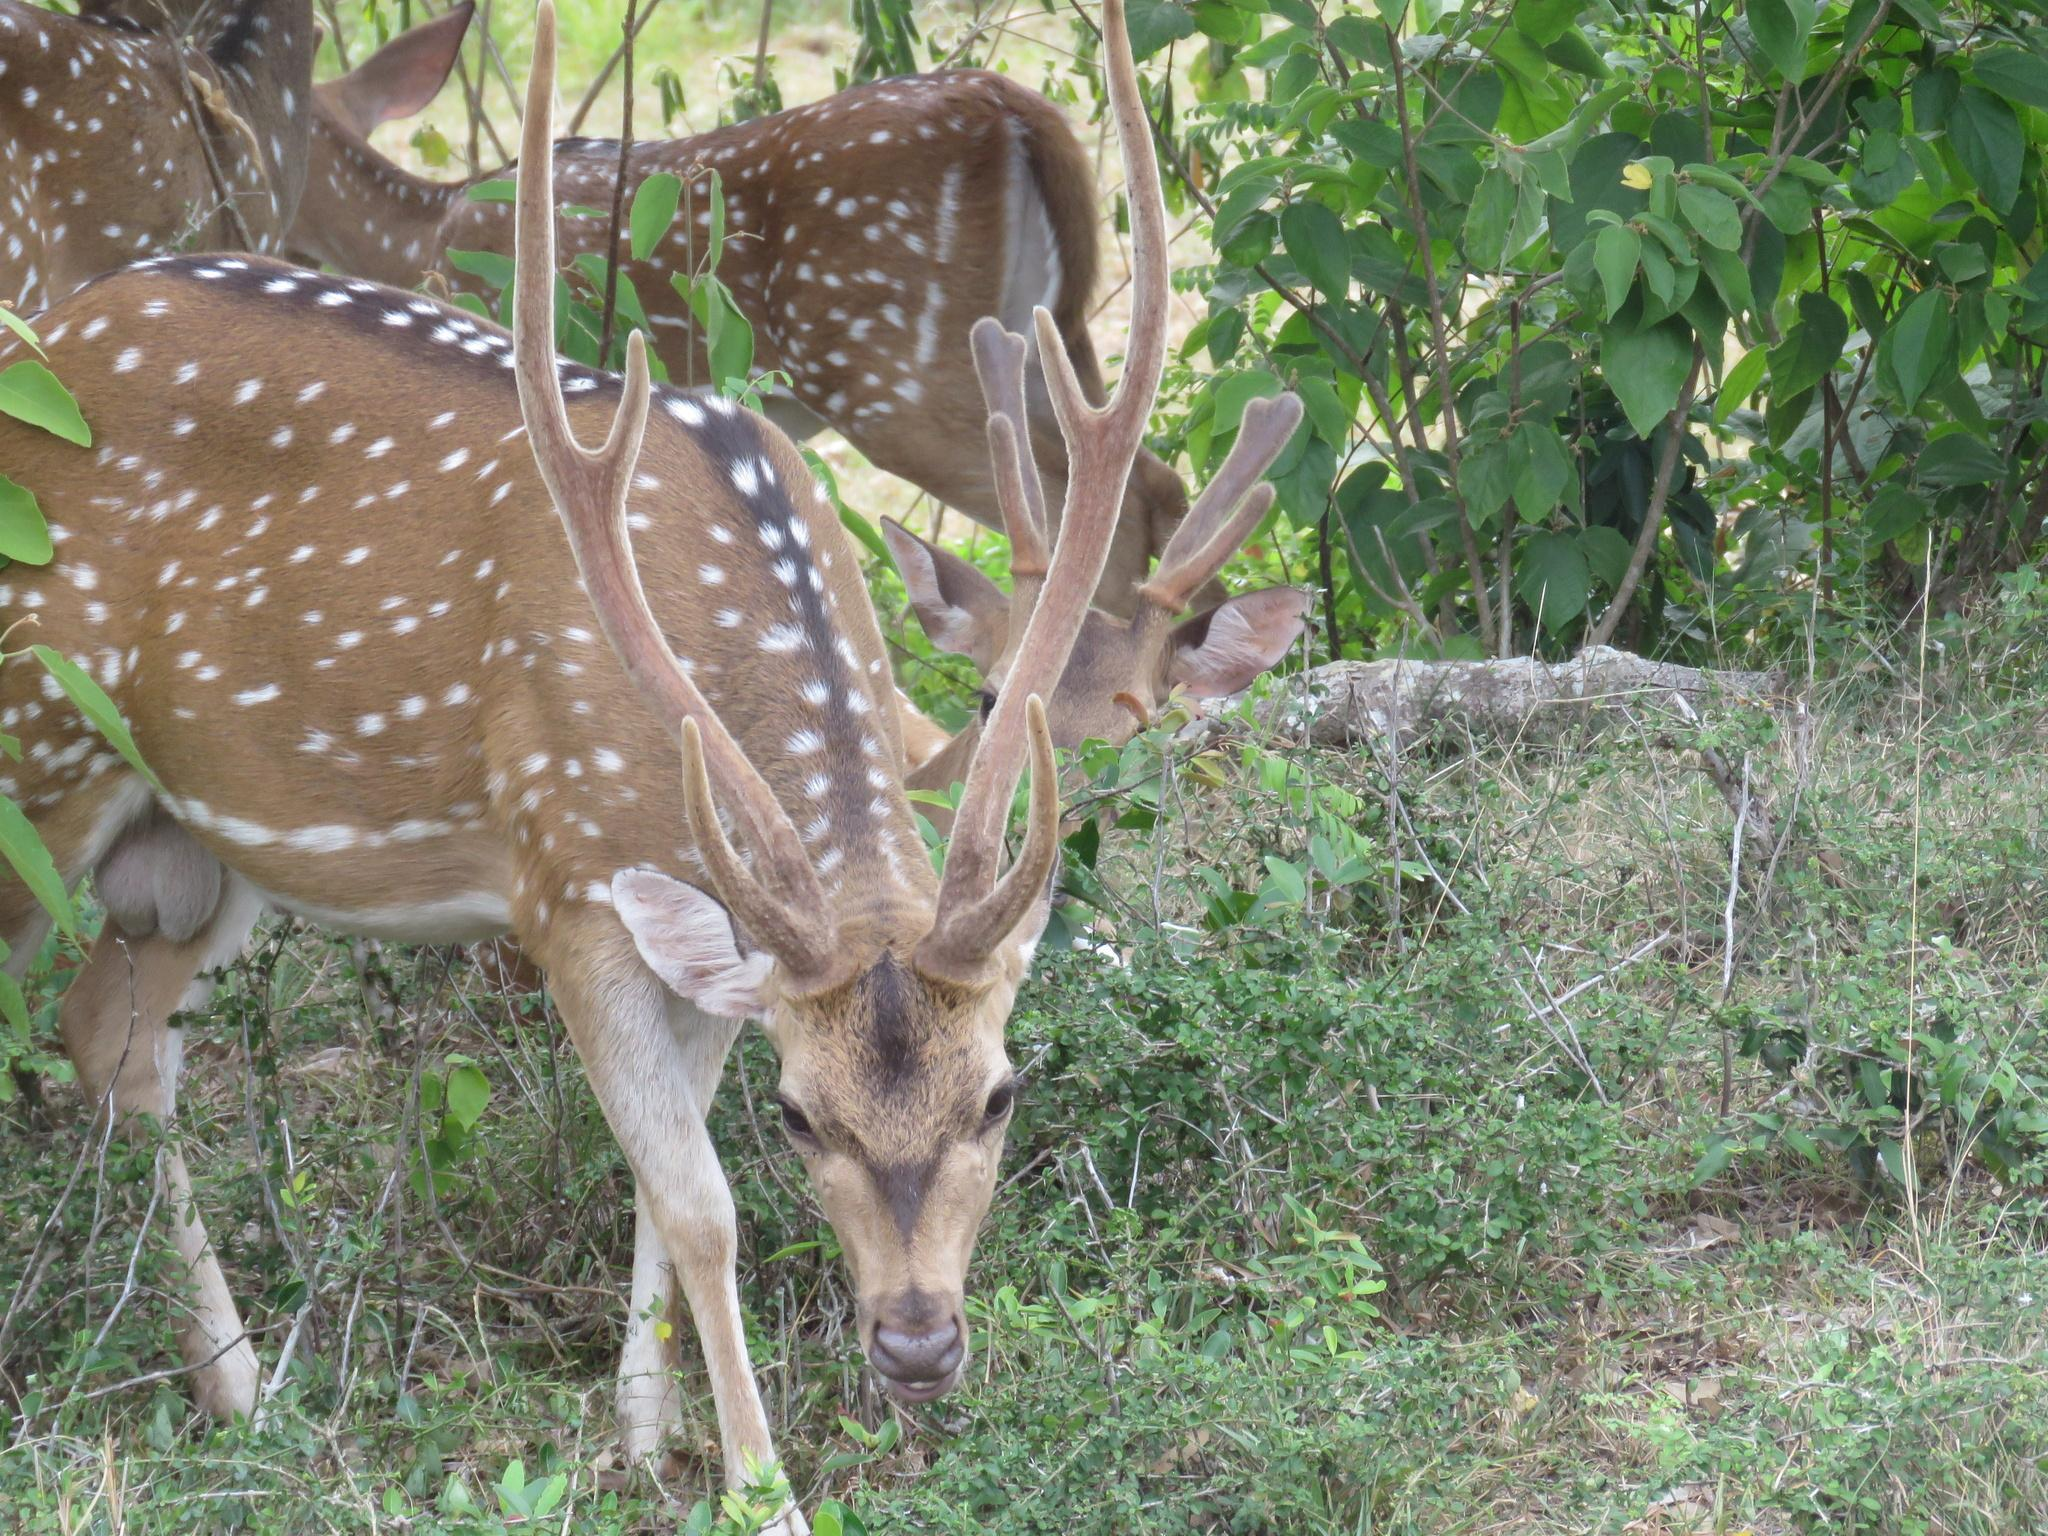Deer: (0, 0, 1168, 1488)
